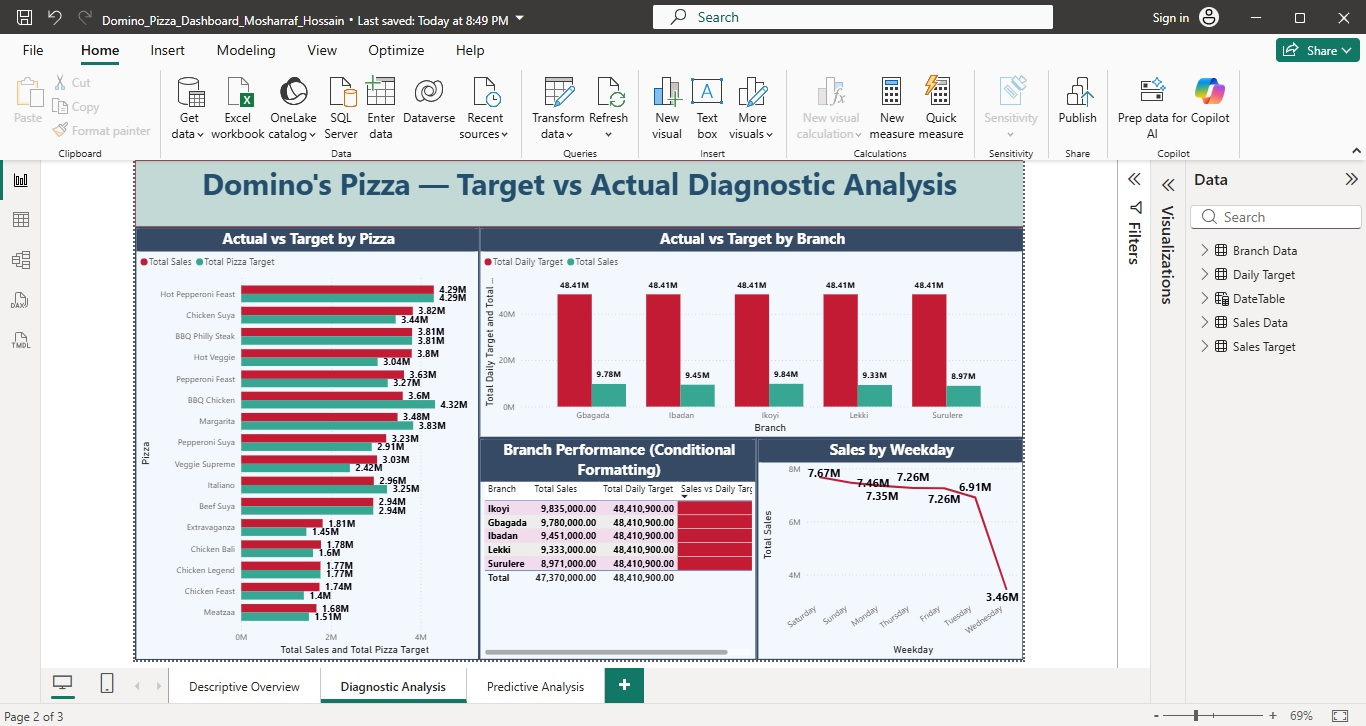

Layout of this report page (visuals, bound fields, positions):
{"tool":"powerbi","page":{"name":"Diagnostic Analysis ","canvas":[1280,720],"ordinal":1},"visuals":[{"type":"clusteredColumnChart","title":"Actual vs Target by Branch","fields":{"Category":["Branch Data.Branch"],"Y":["Sales Data.Total Daily Target","Sales Data.Total Sales"]},"box":[496,96,784,288],"z":0},{"type":"clusteredBarChart","title":"Actual vs Target by Pizza","fields":{"Category":["Sales Target.Pizza"],"Y":["Sales Data.Total Sales","Sales Data.Total Pizza Target"]},"box":[0,96,480,624],"z":1000},{"type":"tableEx","title":"Branch Performance (Conditional Formatting)","fields":{"Values":["Branch Data.Branch","Sales Data.Total Sales","Sales Data.Total Daily Target","Sales Data.Sales vs Daily Target %"]},"box":[496,400,400,320],"z":2000},{"type":"lineChart","title":"Sales by Weekday","fields":{"Category":["DateTable.Weekday"],"Y":["Sales Data.Total Sales"]},"box":[912,400,368,320],"z":3000},{"type":"textbox","box":[0,0,1280,80],"z":4000},{"type":"shape","box":[0,0,1280,80],"z":5000}]}

Visuals, with their boxes on the page's 1280x720 design canvas (x1, y1, x2, y2). These are canvas units, not pixel positions in the 1366x726 screenshot, which may show the page scaled, cropped or inside an application window:
"Actual vs Target by Branch" clusteredColumnChart: bbox=(496, 96, 1280, 384)
"Actual vs Target by Pizza" clusteredBarChart: bbox=(0, 96, 480, 720)
"Branch Performance (Conditional Formatting)" tableEx: bbox=(496, 400, 896, 720)
"Sales by Weekday" lineChart: bbox=(912, 400, 1280, 720)
textbox: bbox=(0, 0, 1280, 80)
shape: bbox=(0, 0, 1280, 80)
